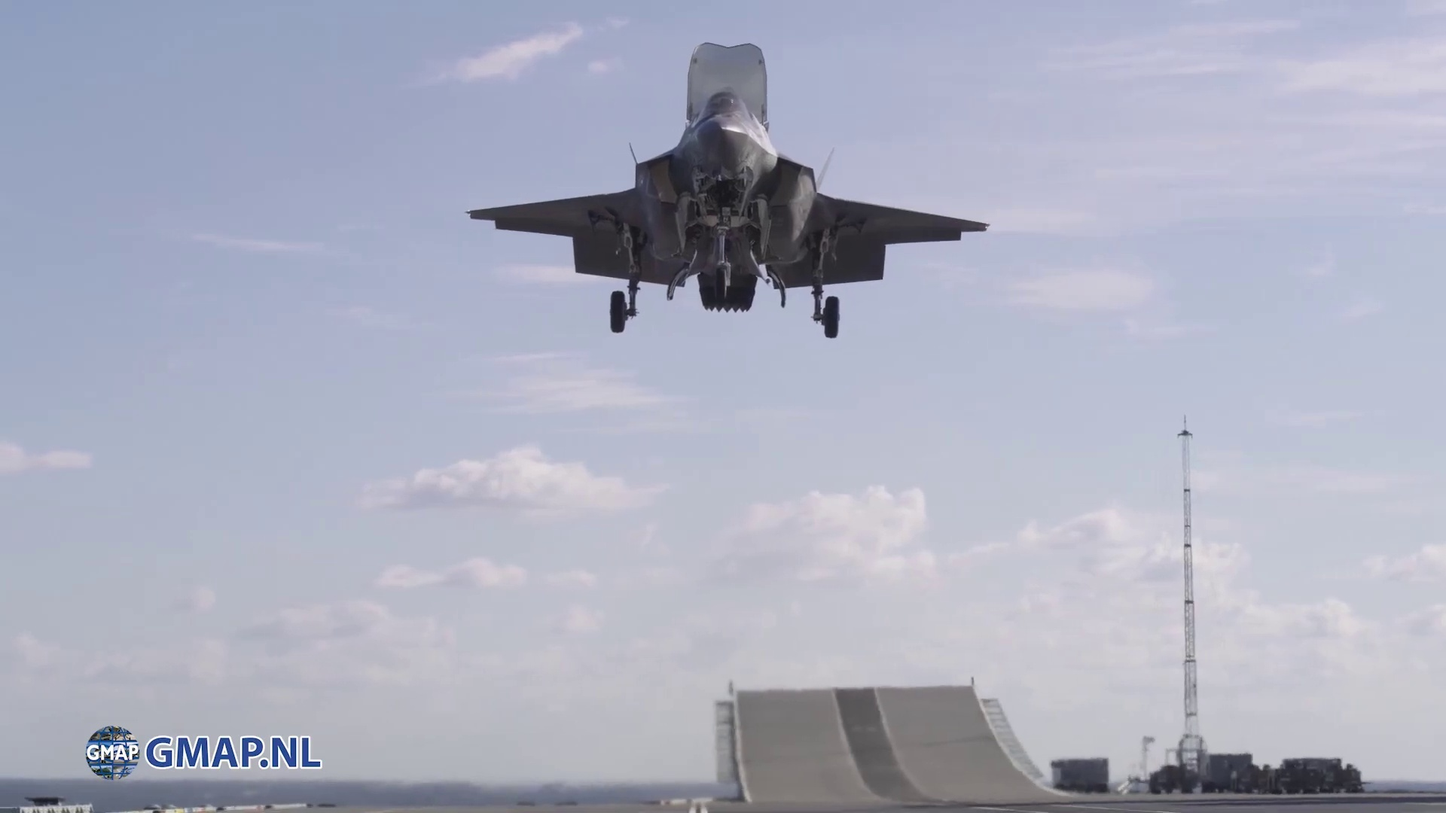F35: (465, 38, 993, 344)
